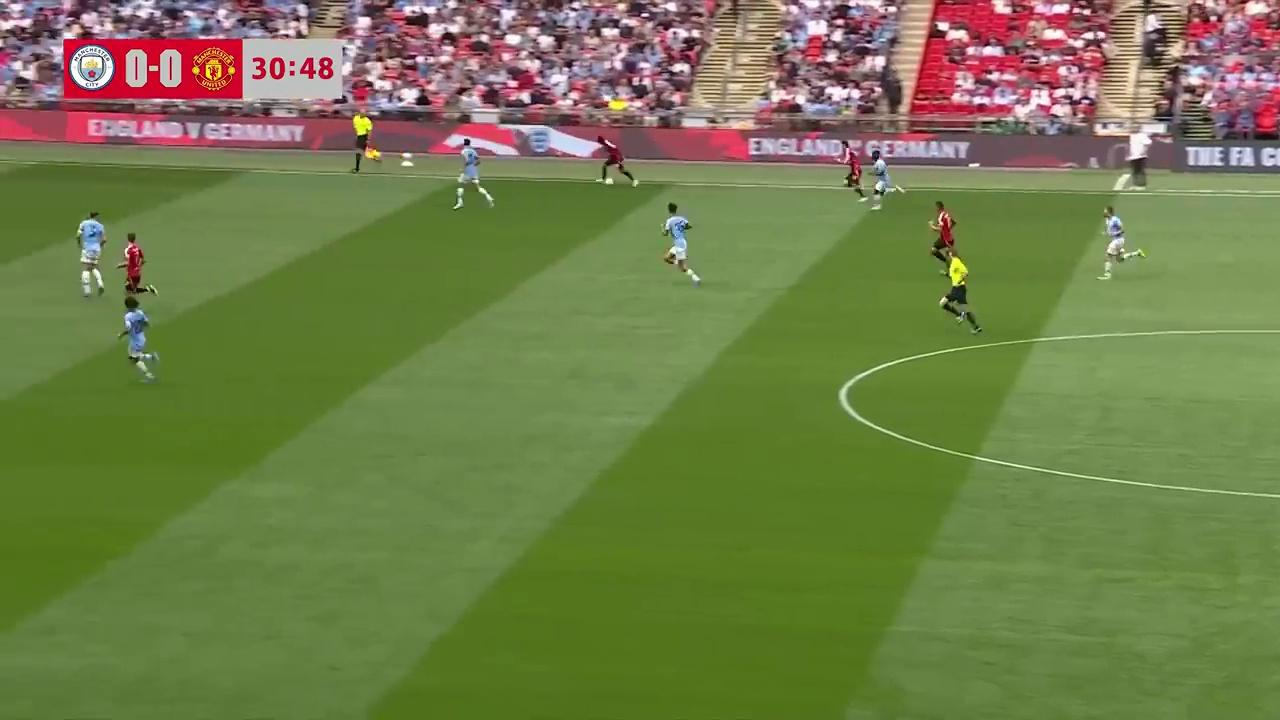ball: (602, 174, 616, 189)
player: (116, 298, 159, 382), (1100, 205, 1144, 279), (661, 203, 700, 284), (116, 233, 157, 305), (452, 144, 494, 209), (76, 209, 106, 299), (927, 202, 956, 272), (597, 138, 637, 187), (868, 155, 904, 208), (843, 151, 866, 198)
referee: (938, 250, 981, 333), (351, 115, 379, 174)
